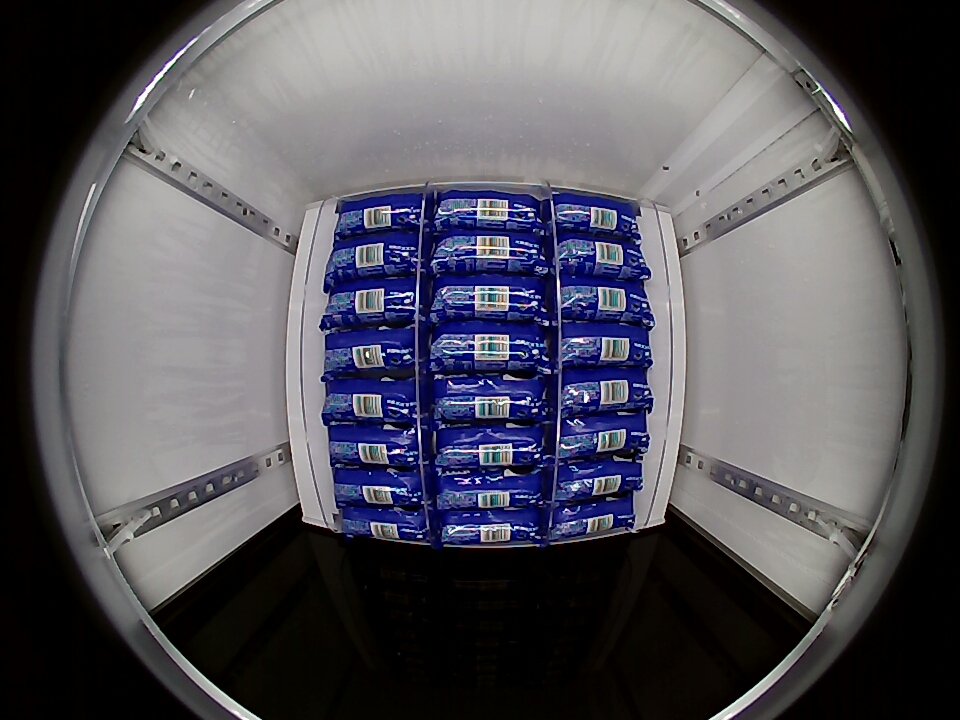aoliao: (430, 320, 551, 376), (430, 272, 549, 325), (433, 371, 548, 424), (435, 420, 547, 470), (432, 188, 544, 238), (431, 230, 549, 277), (326, 229, 421, 284), (322, 325, 417, 377), (558, 276, 654, 326), (437, 466, 545, 510), (325, 277, 420, 327), (320, 376, 418, 424), (437, 504, 543, 548), (550, 191, 643, 241), (335, 187, 426, 237), (546, 494, 636, 544), (561, 367, 654, 415), (559, 321, 653, 368), (558, 412, 650, 458), (327, 422, 420, 467), (338, 501, 432, 545), (553, 456, 642, 501), (332, 465, 425, 507), (555, 241, 652, 279)
